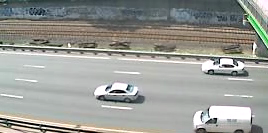car: (190, 103, 257, 133), (90, 80, 146, 105), (200, 56, 247, 80)
